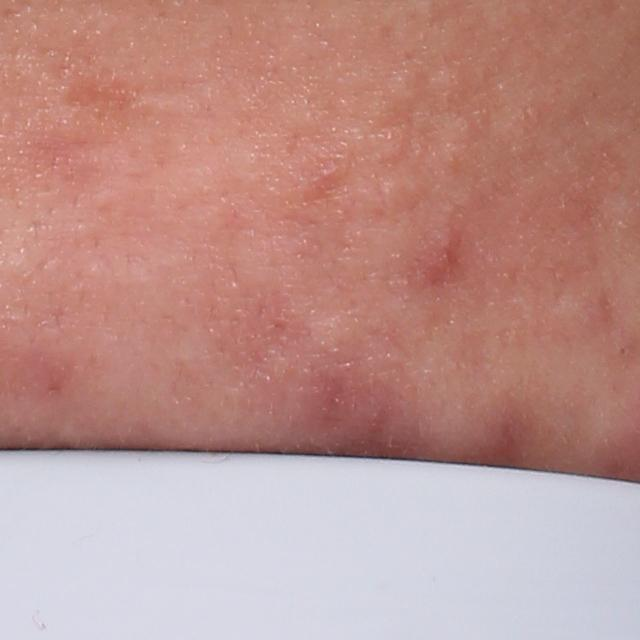comedo: (616, 339, 635, 360)
hypertrophic_scar: (373, 167, 431, 215), (383, 64, 421, 110), (428, 65, 470, 103)
papule: (420, 218, 464, 279)
